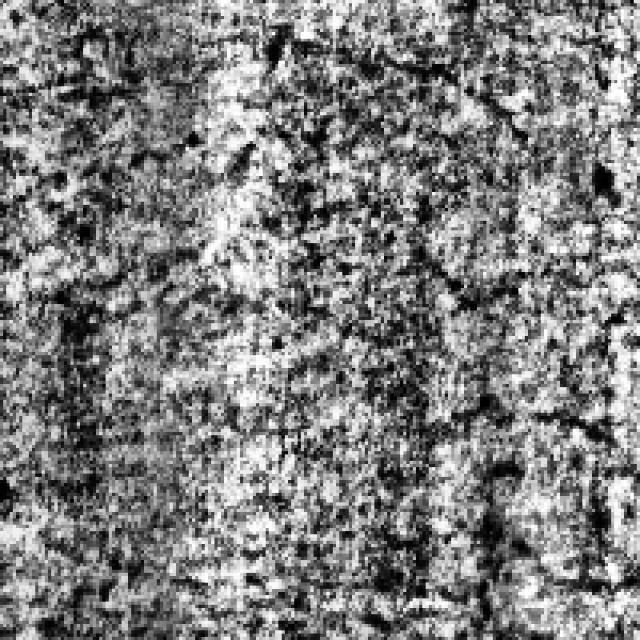Pitted_Surface: (252, 32, 550, 310), (358, 390, 628, 628)
